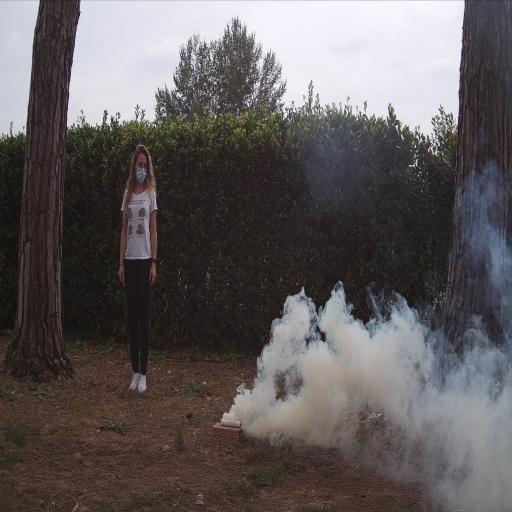leakage: (214, 110, 512, 512)
